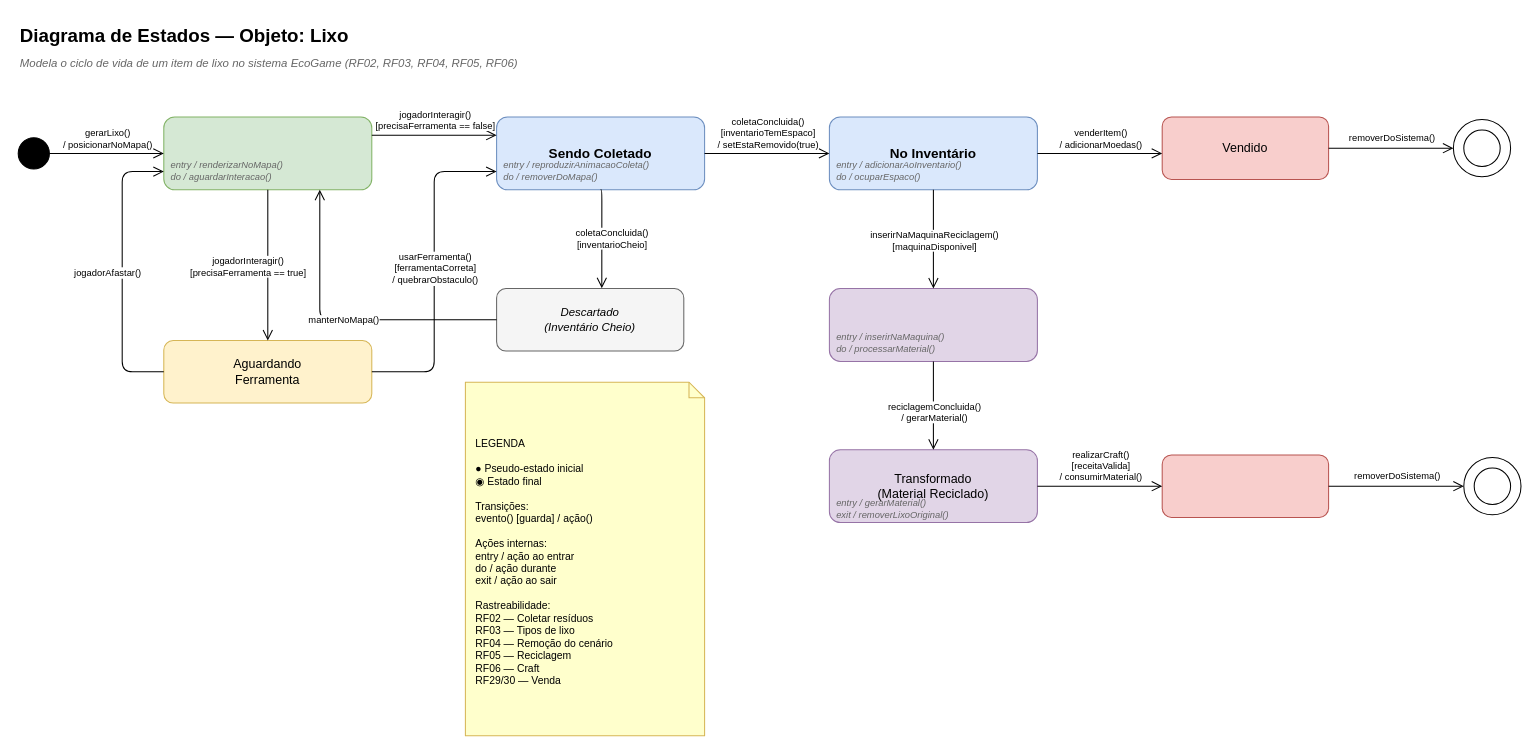
This 1539x754 diagram has some shape labels left out. Each missing label, with the box of its shape:
Disponível no Mapa: (163, 116, 372, 190)
Sendo Reciclado: (828, 288, 1037, 361)
Utilizado em Craft: (1161, 454, 1329, 517)
